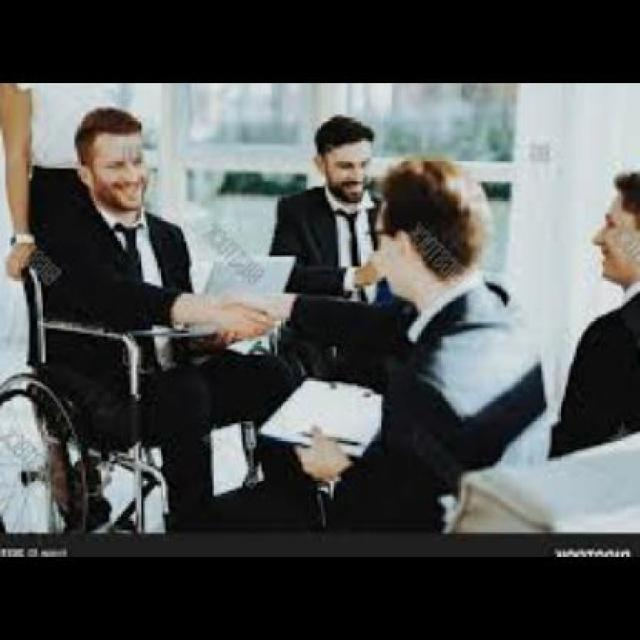wheelchairs: (0, 261, 251, 532)
